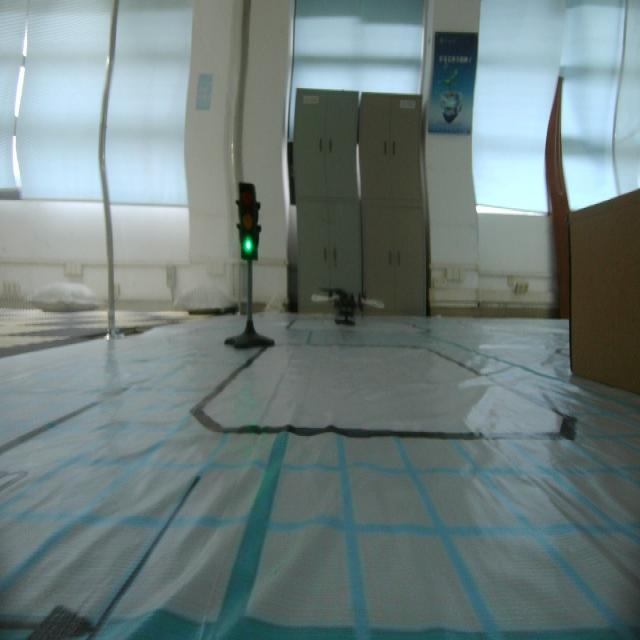green: (232, 183, 266, 262)
